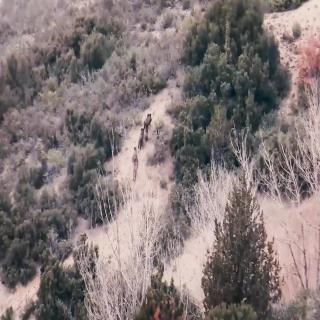Pig: (130, 148, 139, 182), (140, 110, 153, 132), (134, 124, 145, 148)
